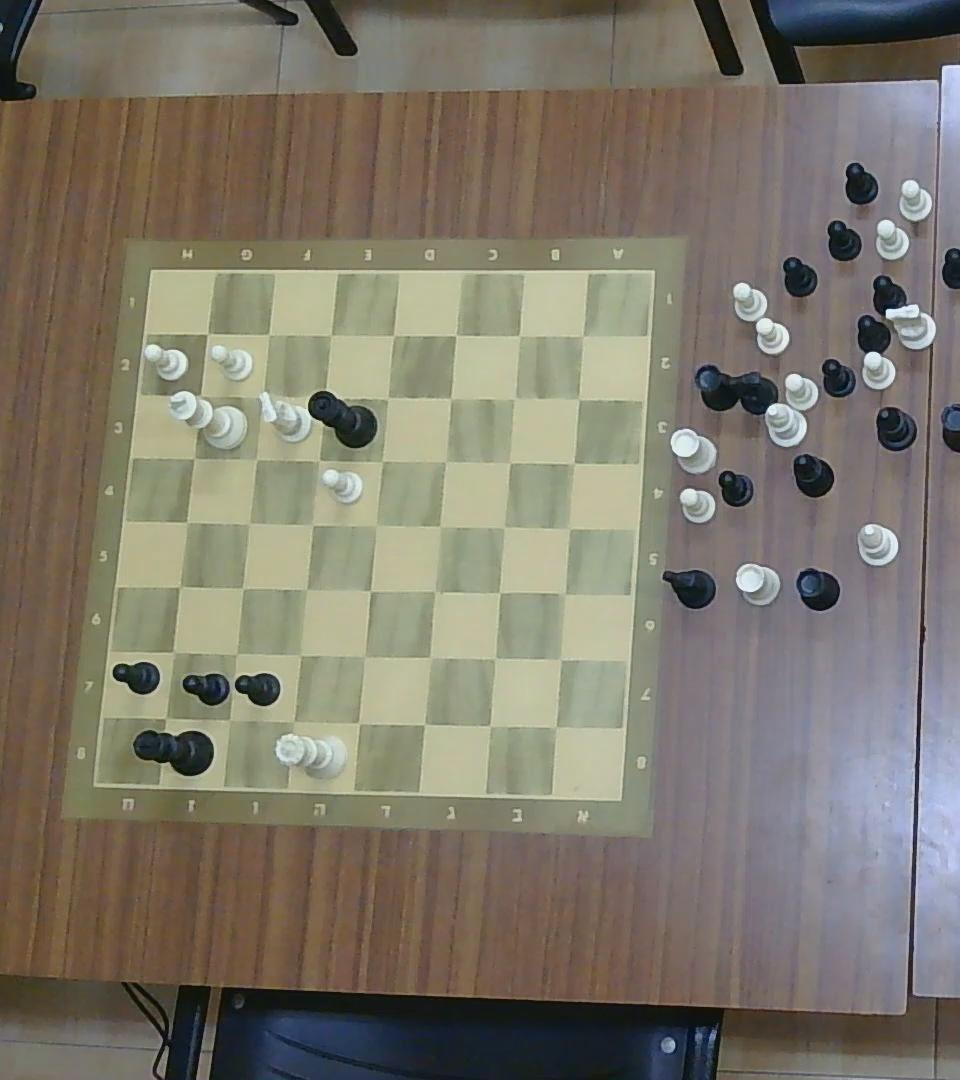xcorner: (477, 712, 503, 739), (246, 383, 272, 409), (542, 714, 569, 739), (412, 711, 437, 736), (347, 709, 371, 734), (281, 708, 305, 732), (482, 647, 506, 671), (418, 644, 442, 668), (154, 705, 178, 729), (353, 644, 376, 668), (288, 642, 311, 666), (549, 648, 571, 670), (319, 324, 341, 346), (218, 709, 240, 731), (439, 387, 461, 408), (225, 643, 246, 665), (423, 581, 444, 602), (429, 515, 449, 537), (372, 449, 392, 471), (445, 324, 465, 346), (188, 386, 210, 406), (366, 514, 386, 535), (488, 582, 509, 602), (499, 450, 519, 471), (555, 583, 575, 604), (170, 576, 190, 597), (296, 577, 315, 599), (183, 447, 203, 467), (559, 518, 579, 538), (383, 325, 403, 345), (247, 448, 266, 469), (435, 450, 454, 471), (164, 642, 183, 663), (302, 514, 321, 534), (378, 388, 397, 408), (361, 580, 380, 600), (198, 322, 217, 342), (309, 450, 328, 470), (259, 324, 278, 344), (177, 511, 196, 531), (232, 579, 252, 598), (315, 386, 334, 406), (240, 513, 259, 532), (564, 454, 583, 473), (495, 516, 513, 536), (505, 388, 523, 407), (573, 326, 591, 345), (511, 326, 529, 345), (571, 390, 588, 406)
